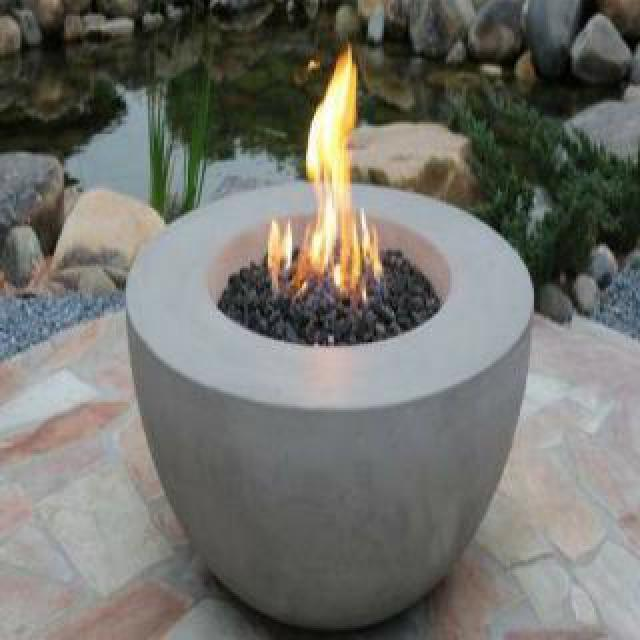Fire: (264, 32, 390, 314)
